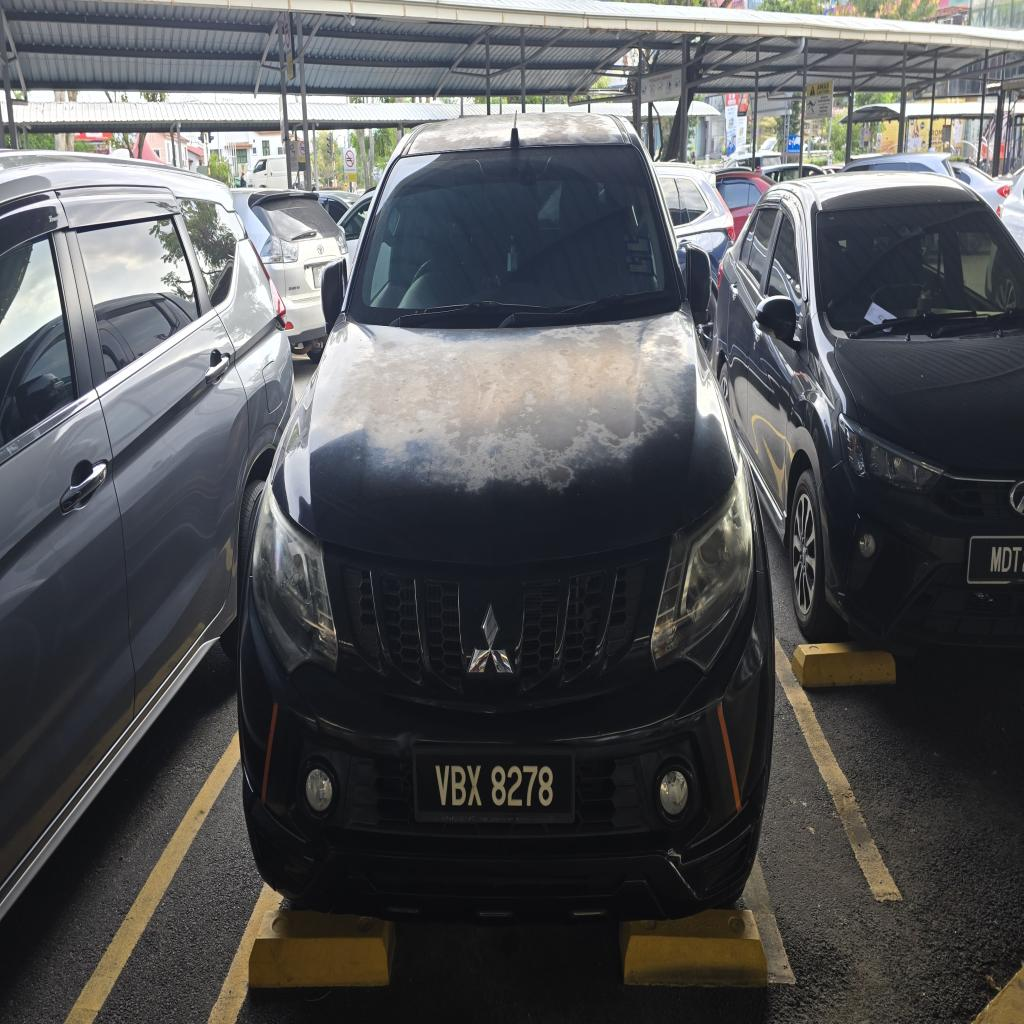car: (239, 114, 774, 922)
car plate: (414, 748, 574, 823)
